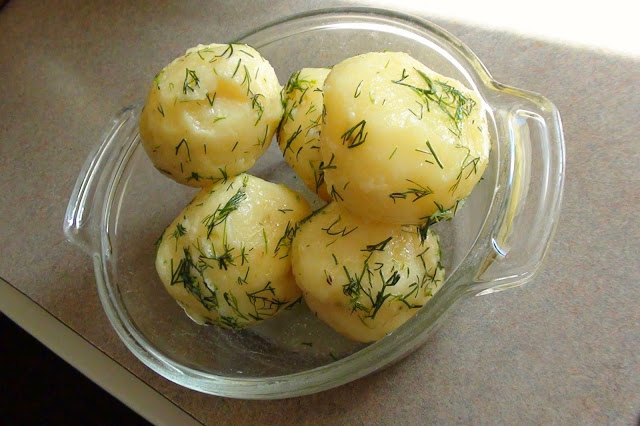boiled potatoes: (174, 57, 443, 315)
